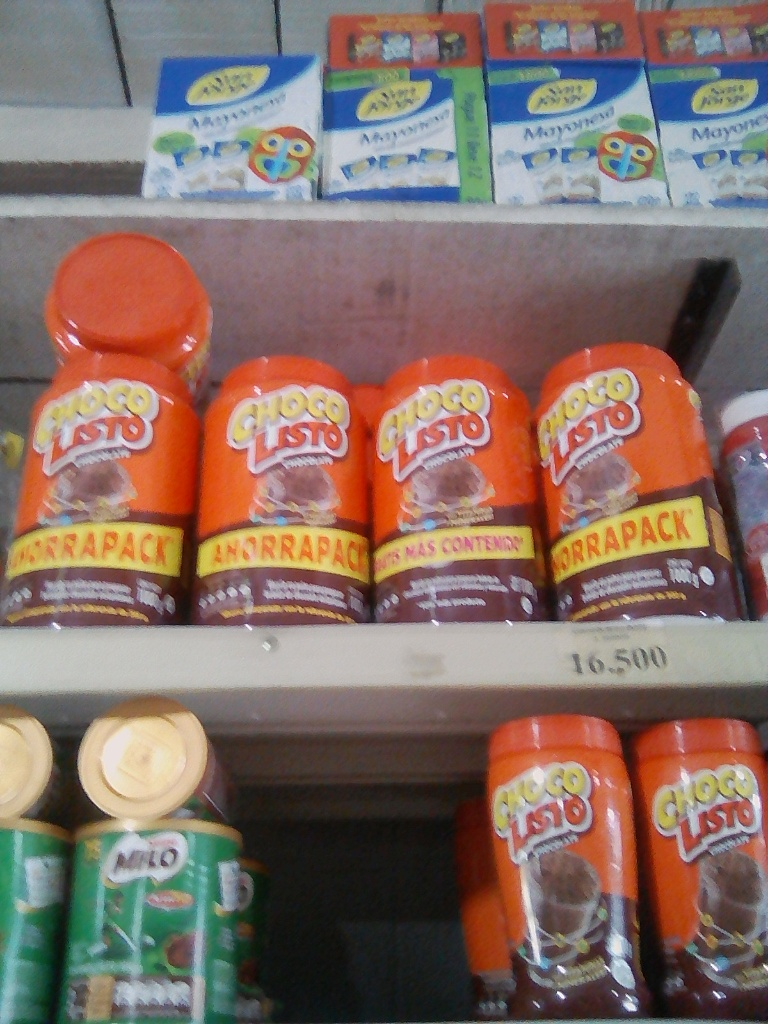COL0170103TRR00100: (0, 351, 195, 626)
COL0170203LAT40000: (65, 824, 244, 1024)
